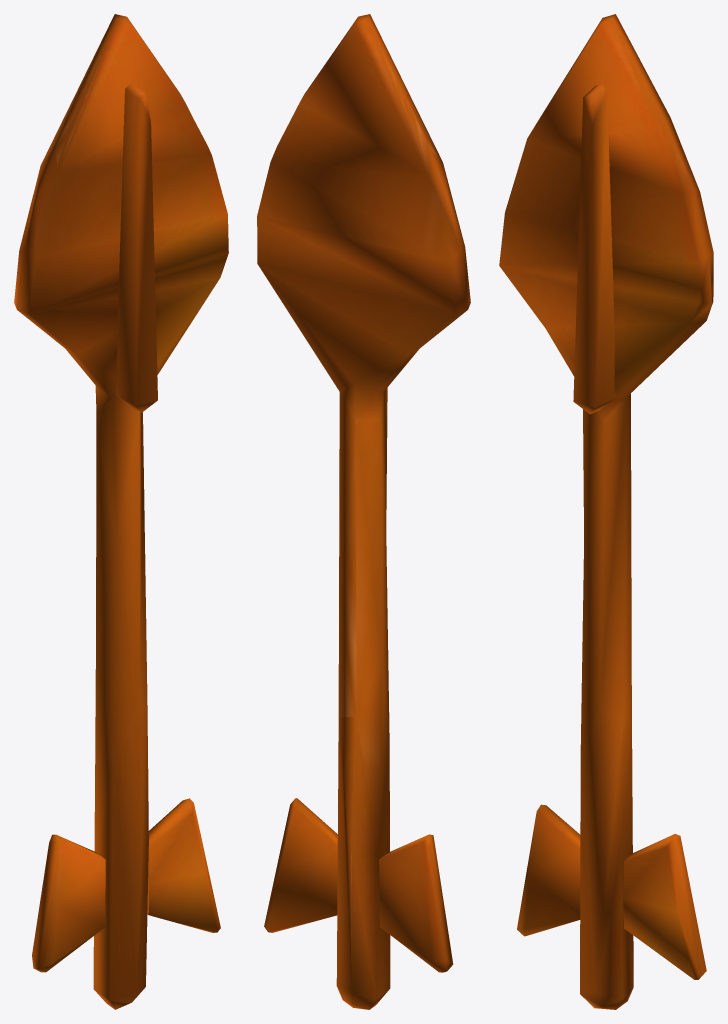
File: yuzu_ult_sunarrow.fbx
The picture shows the model from 3 angles, left to right: view 1: azimuth 30°, elevation 25°; view 2: azimuth 150°, elevation 25°; view 3: azimuth 330°, elevation 25°; orthographic projection.
Visible parts, largest first — view 1: yuzu_ult_sunarrow_LOD0; view 2: yuzu_ult_sunarrow_LOD0; view 3: yuzu_ult_sunarrow_LOD0.
Boxes of the visible parts, box(x1,y1,x2,y2) form: yuzu_ult_sunarrow_LOD0: box(14, 14, 228, 1009); yuzu_ult_sunarrow_LOD0: box(257, 14, 470, 1009); yuzu_ult_sunarrow_LOD0: box(499, 14, 713, 1009).
Size of what is drawn, in the model's own units: 0.2214 by 0.9989 by 0.0693.
